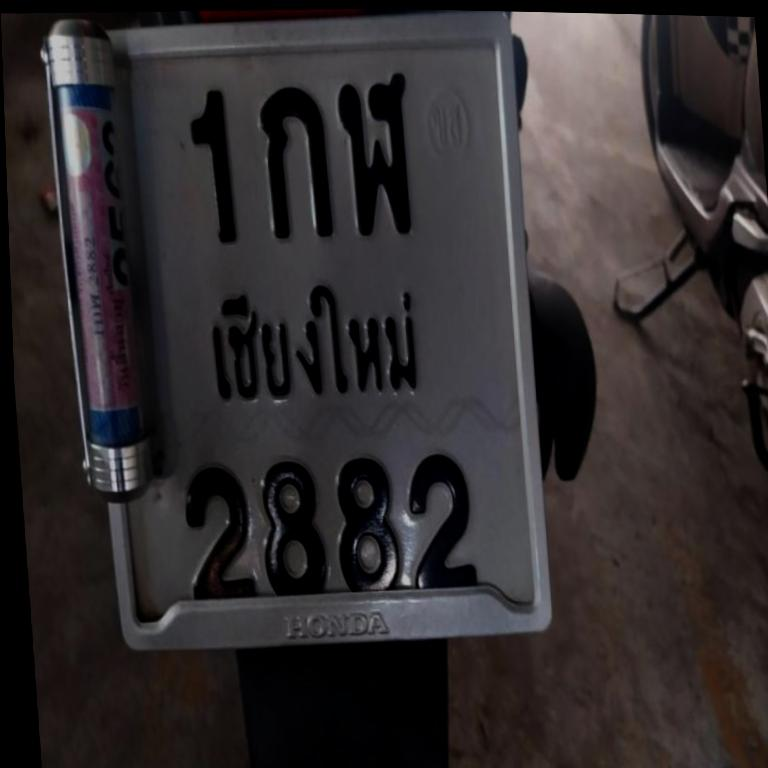license plate: (45, 11, 550, 648)
